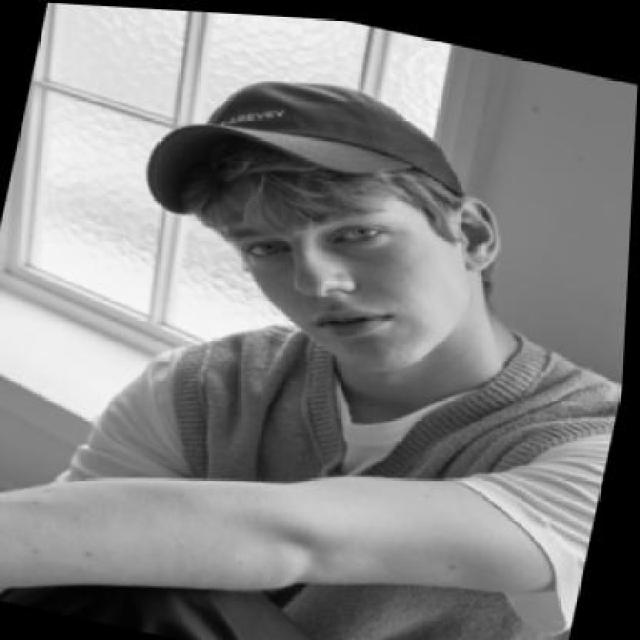hat: (128, 36, 495, 275)
